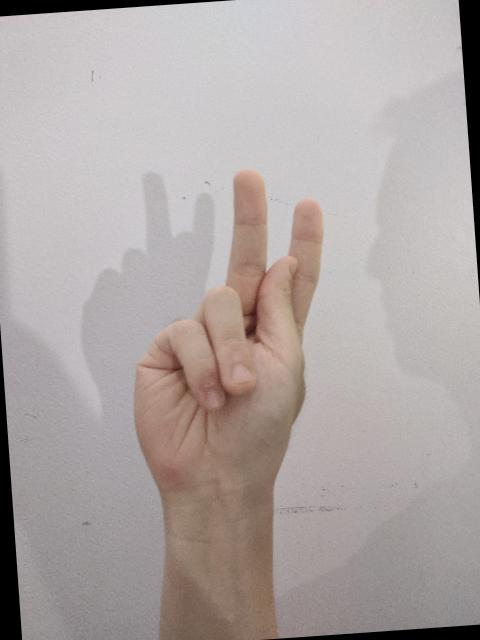K: (110, 159, 349, 526)
